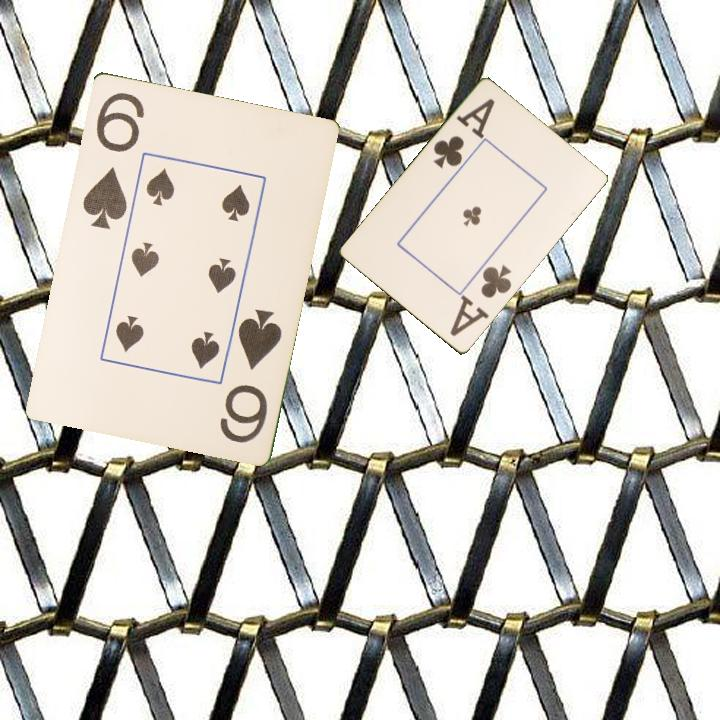6s: (215, 304, 285, 446), (78, 88, 147, 232)
Ac: (446, 261, 515, 340), (430, 95, 498, 172)
